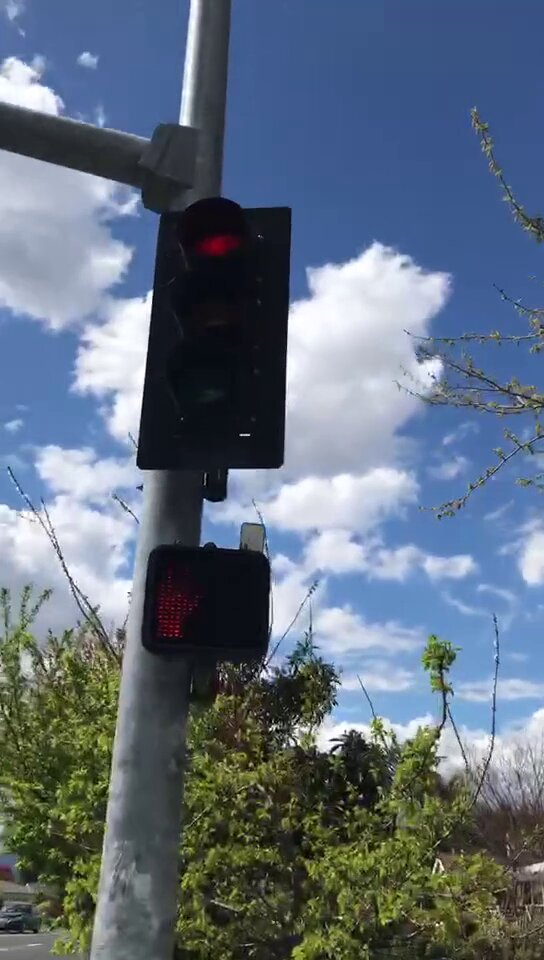red_light: (161, 211, 285, 470)
